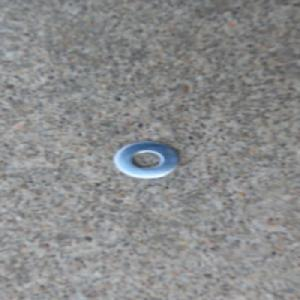Washer: (109, 137, 183, 180)
